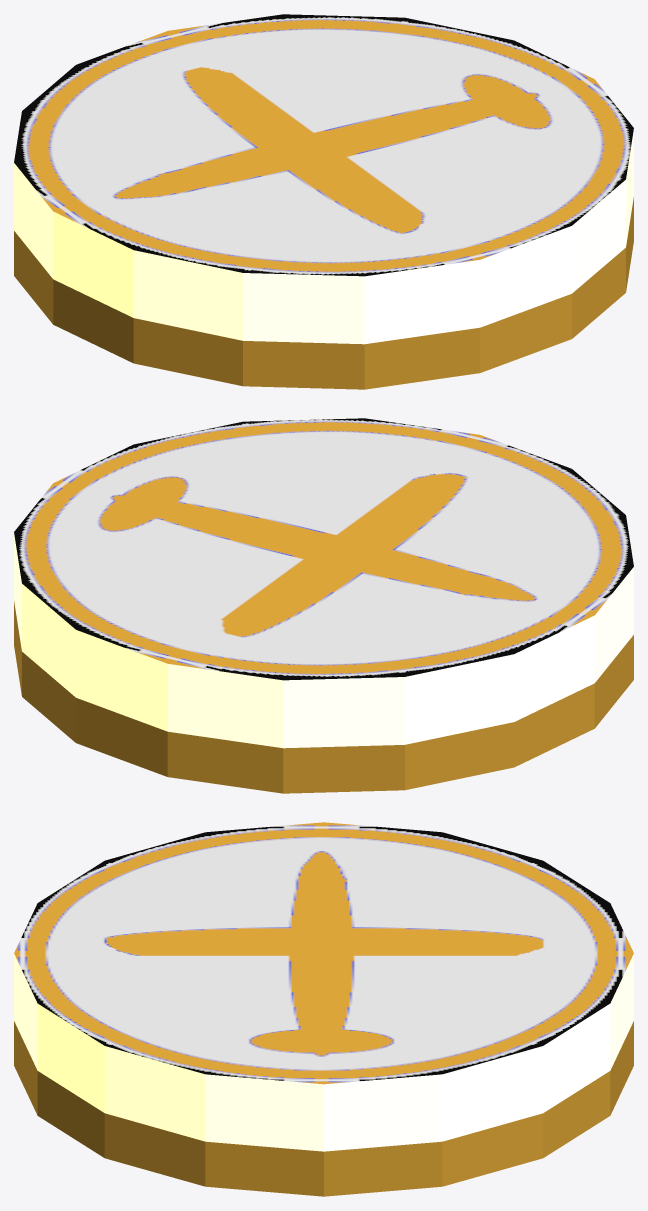
The model's file is piece_yellow.glb.
3 renders of one model, top to bottom at view 1: azimuth 30°, elevation 25°; view 2: azimuth 150°, elevation 25°; view 3: azimuth 270°, elevation 25°, orthographic.
Visible parts, largest first — view 1: Cylinder; view 2: Cylinder; view 3: Cylinder.
Part boxes in pixels (left/top/right/bottom): Cylinder: left=14, top=14, right=633, bottom=389; Cylinder: left=14, top=418, right=633, bottom=793; Cylinder: left=14, top=822, right=633, bottom=1196.
Size of the model in its own units: 0.5 by 0.1 by 0.5.
Materials: 2 (1 with a texture image).
